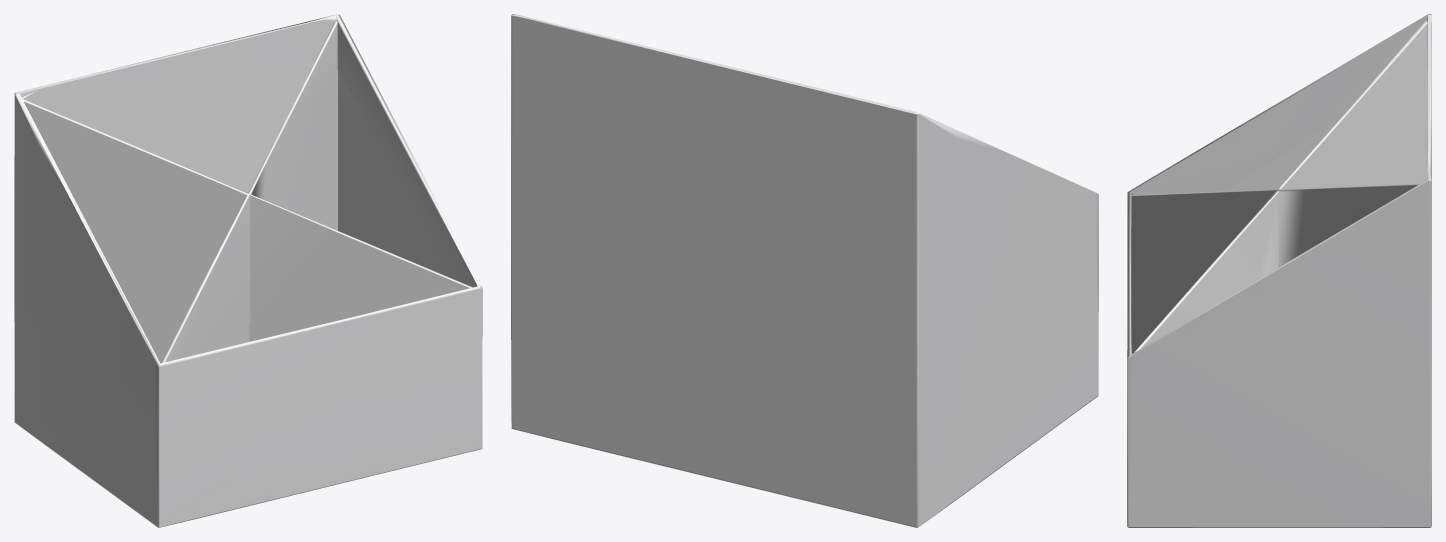
File: FJÄDERHARV Organiseur bureau blanc 16x16 cm.glb
3 views of the same model, side by side, from view 1: azimuth 30°, elevation 25°; view 2: azimuth 150°, elevation 25°; view 3: azimuth 270°, elevation 25° (orthographic). The views are drawn at different scales.
Visible parts, largest first — view 1: ASY_ART_50596899_S01_NV01; view 2: ASY_ART_50596899_S01_NV01; view 3: ASY_ART_50596899_S01_NV01.
Part boxes in pixels (x1,y1,x2,y2): ASY_ART_50596899_S01_NV01: [14, 14, 482, 527]; ASY_ART_50596899_S01_NV01: [511, 14, 1098, 527]; ASY_ART_50596899_S01_NV01: [1127, 14, 1431, 527].
Size of the model in its own units: 0.1603 by 0.1558 by 0.1236.
1 material, 1 textured.
